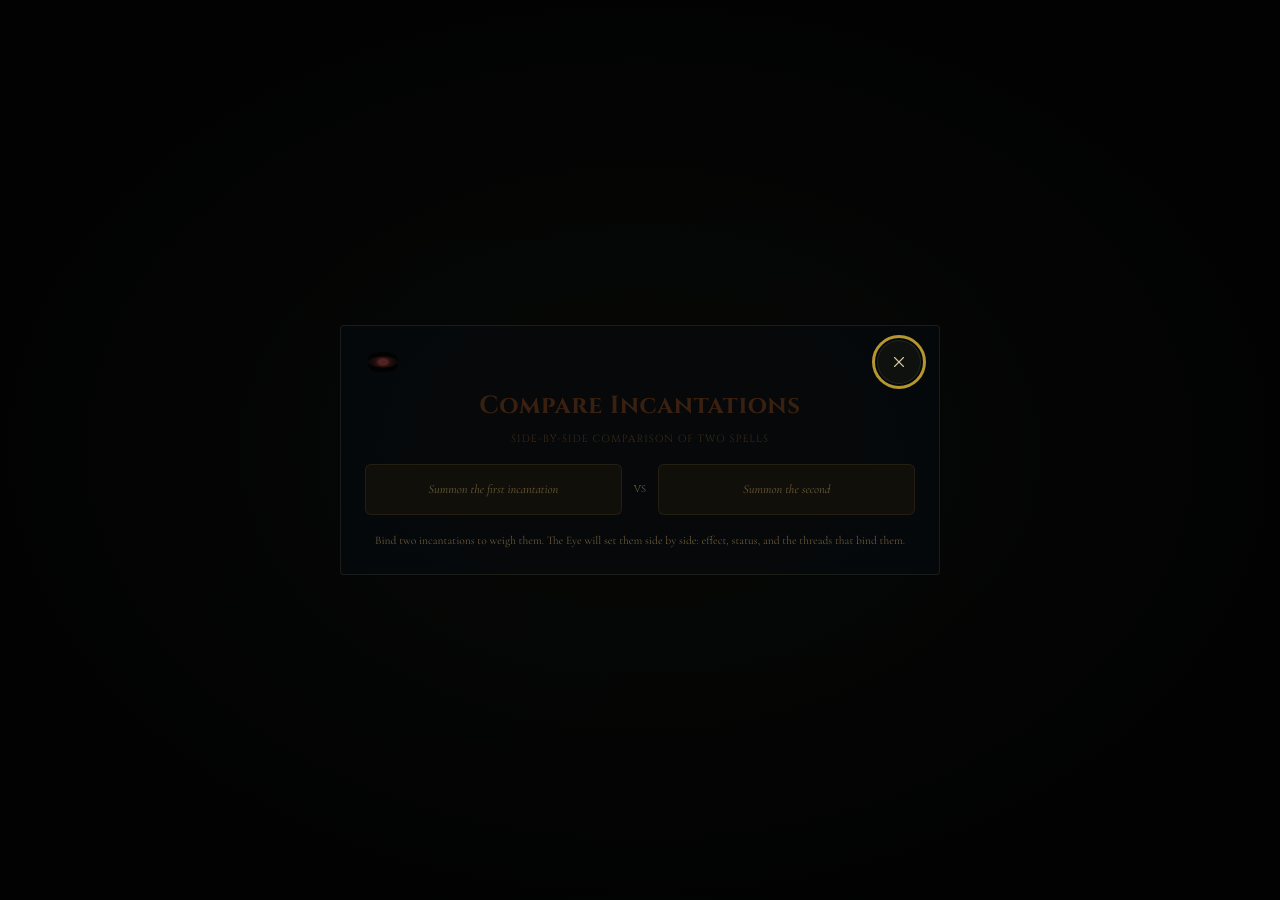
Test: CompareSpellsModal › filters spells when typing in search
Click the button "Summon the first incantation": (493, 490) [365,464,622,515]
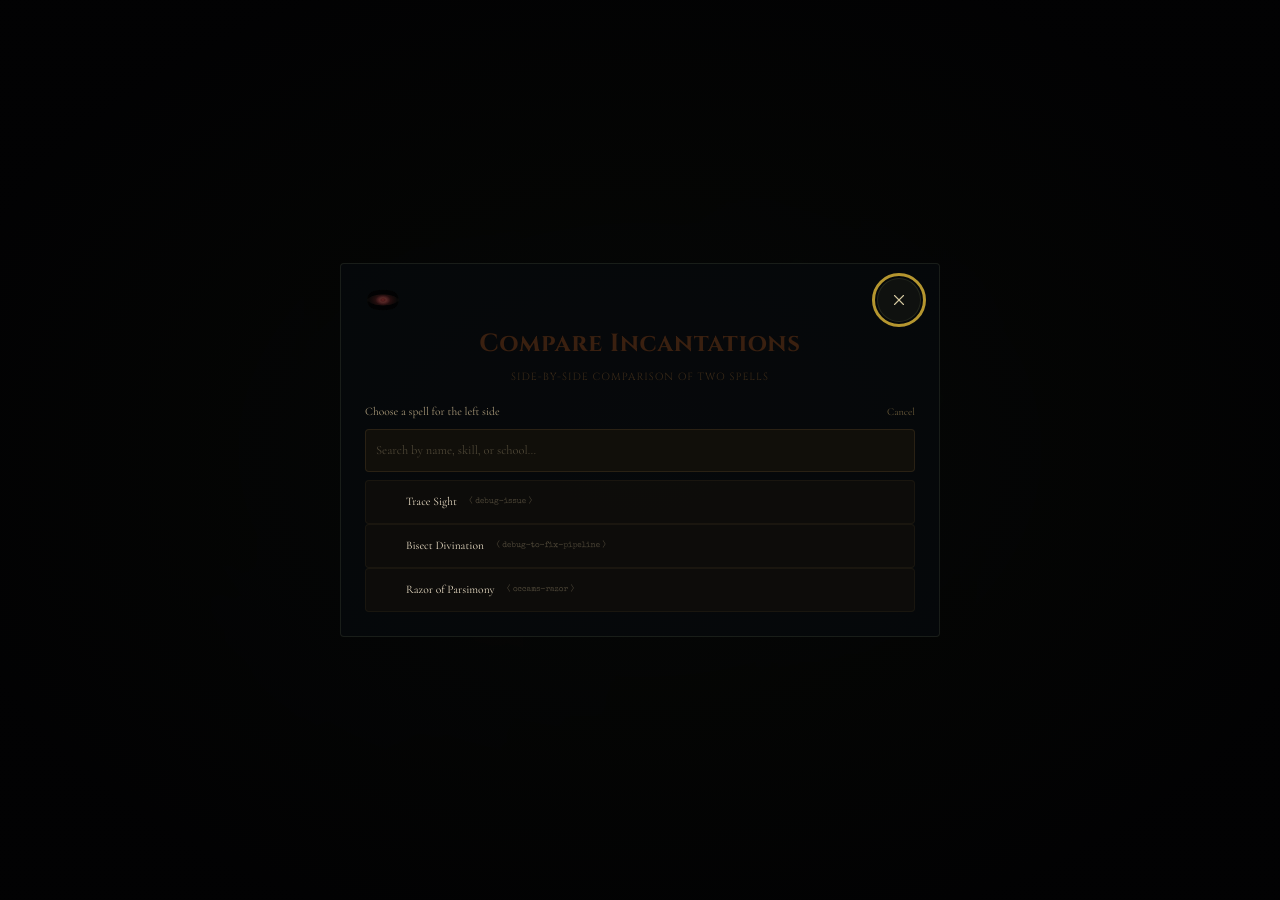
In the field named "Search spells to compare": (640, 451) [365,429,915,472], type "bisect"
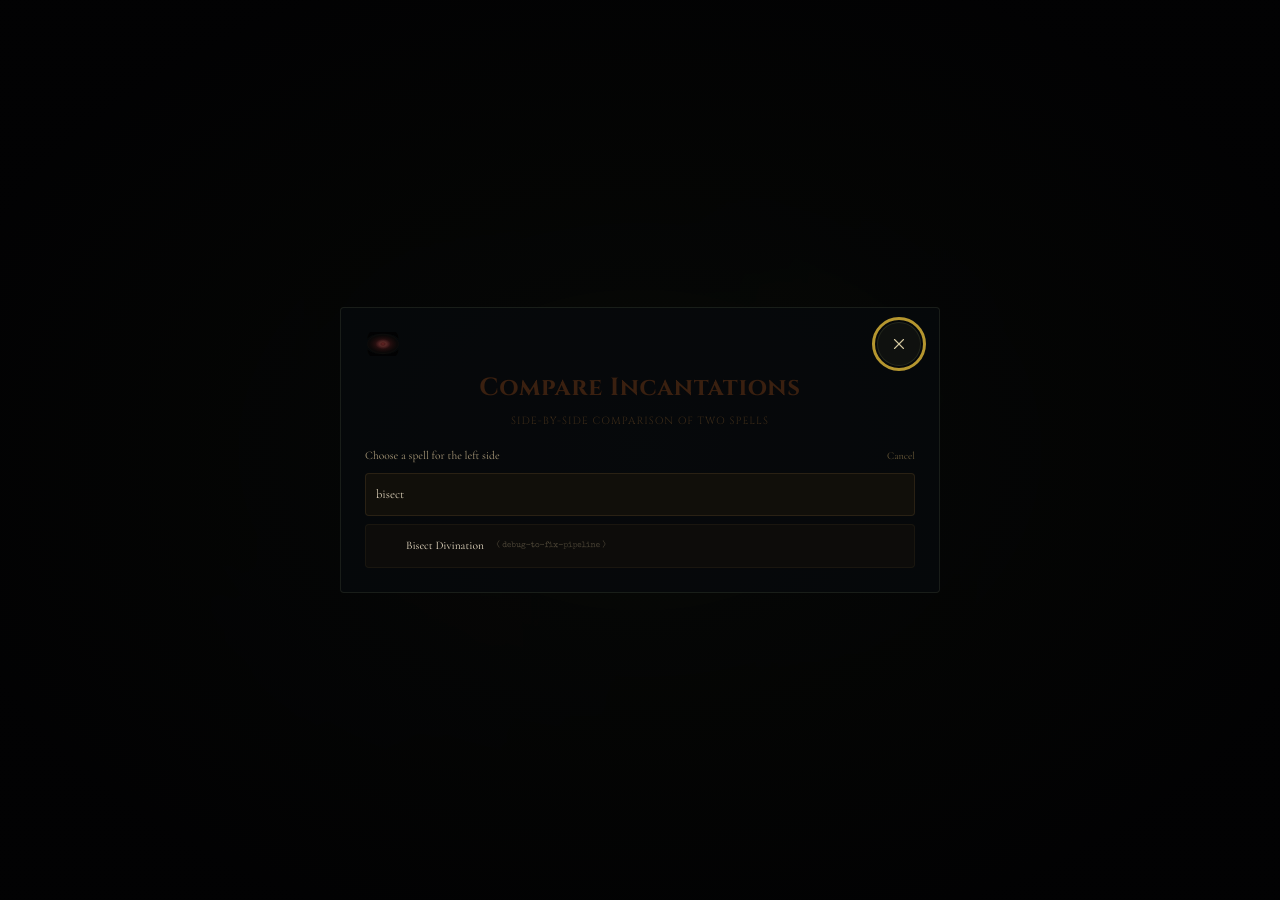
Expected: the text "Bisect Divination" is shown, [406,536,484,555]
Expected: the button "Razor of Parsimony" is gone
